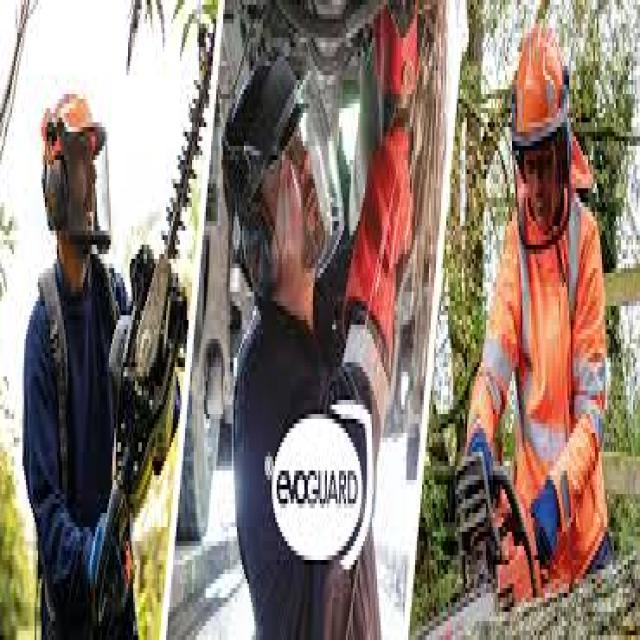gloves: (342, 0, 421, 331), (78, 527, 135, 605), (533, 469, 562, 569), (466, 427, 494, 498)
